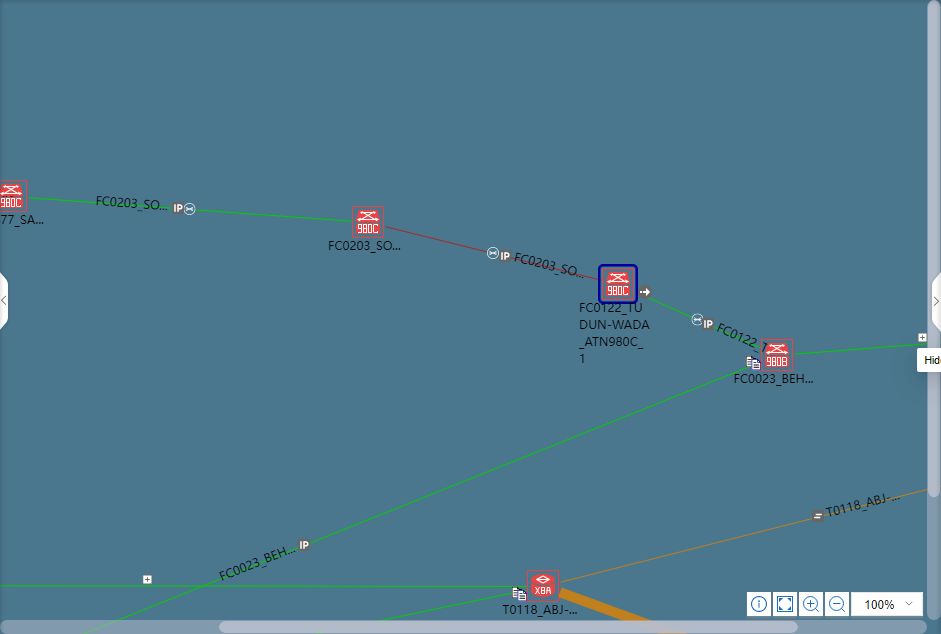ATN_Red: (602, 269, 633, 300), (761, 341, 792, 370), (353, 208, 382, 237)
Link_Green: (113, 366, 751, 619), (29, 196, 352, 223), (646, 296, 760, 351), (375, 592, 512, 621), (794, 343, 926, 357)
Link_Orange: (561, 488, 926, 584), (558, 588, 652, 621)
Link_Red: (385, 224, 597, 281)
Router_Red: (527, 572, 557, 601)
